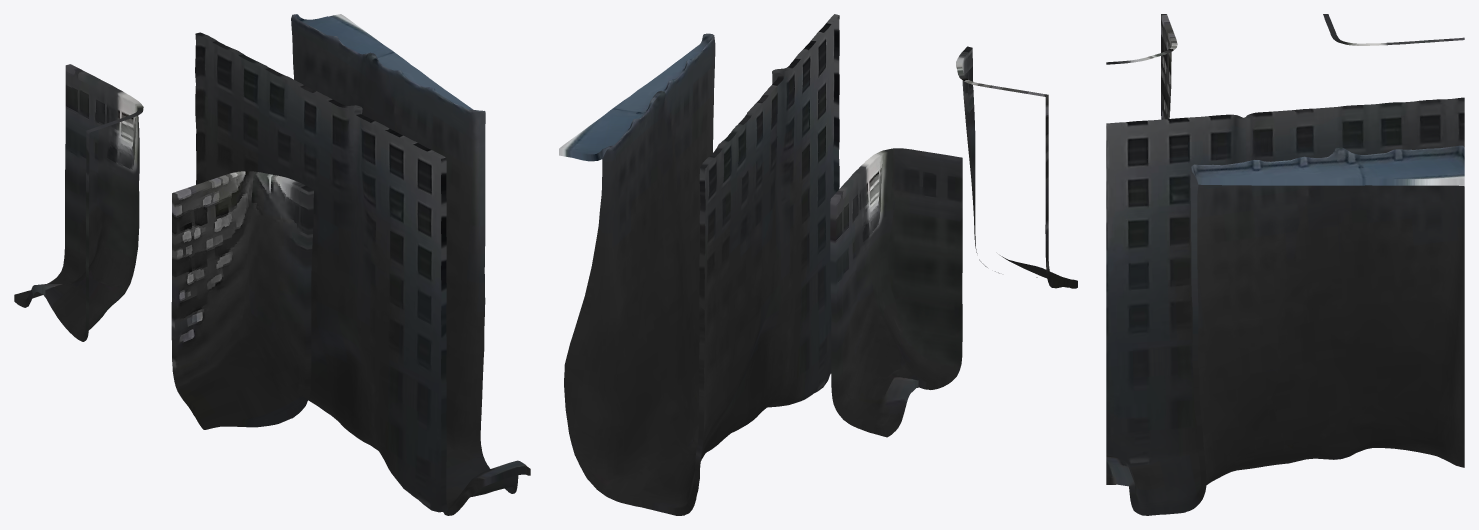
Rendered from z20-167766-405235-h0-yup-uvflip-v3-world.glb.
3 renders of one model, left to right at view 1: azimuth 30°, elevation 25°; view 2: azimuth 150°, elevation 25°; view 3: azimuth 270°, elevation 25°, orthographic. The views are drawn at different scales.
Bounding box in the file's own units: 30.16 × 32.76 × 30.32.
Materials: 1 (1 with a texture image).
